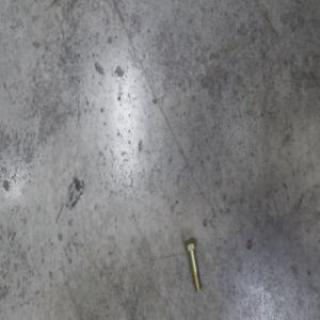Bolttrack_idkeyframe: (182, 235, 201, 292)
